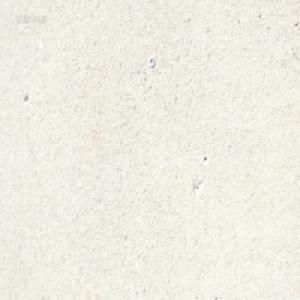Washer: (148, 57, 154, 68)
